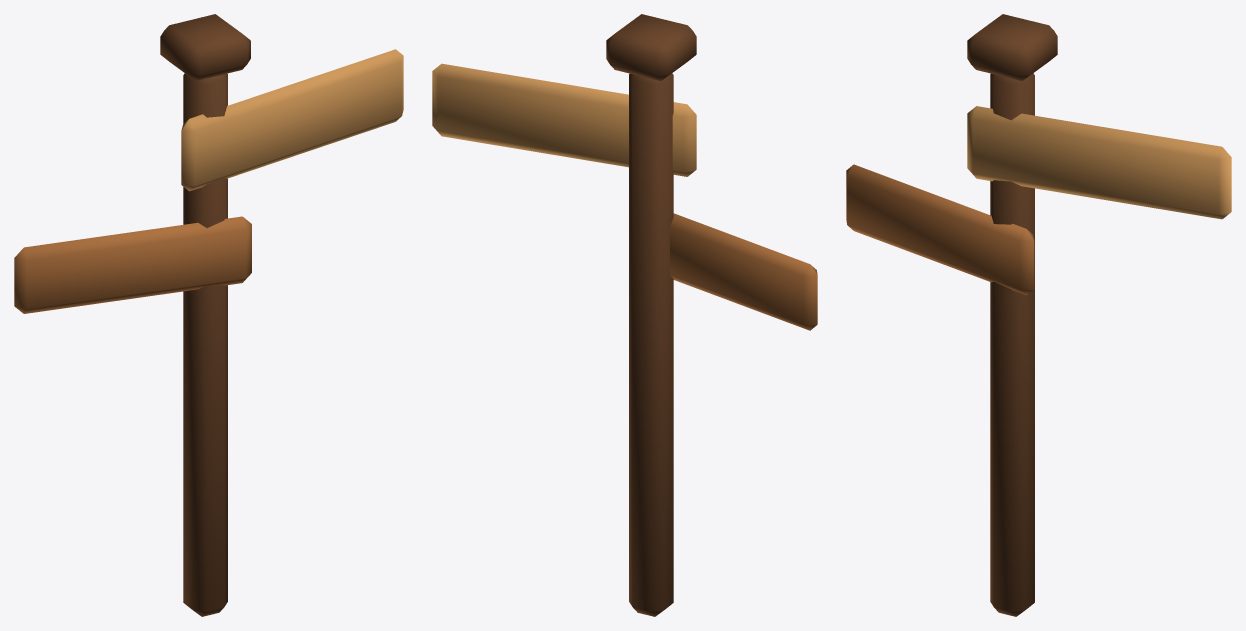
Rendered from P_MedSignpost.fbx.
3 views of the same model, side by side, from view 1: azimuth 30°, elevation 25°; view 2: azimuth 150°, elevation 25°; view 3: azimuth 330°, elevation 25° (orthographic).
Parts seen in each view (by area): view 1: M_Signpost; view 2: M_Signpost; view 3: M_Signpost.
Part boxes in pixels (left/top/right/bottom): M_Signpost: left=14, top=14, right=403, bottom=616; M_Signpost: left=432, top=14, right=817, bottom=616; M_Signpost: left=846, top=14, right=1231, bottom=616.
Size of the model in its own units: 1.34 by 1.92 by 0.22.
1 material, 1 textured.
